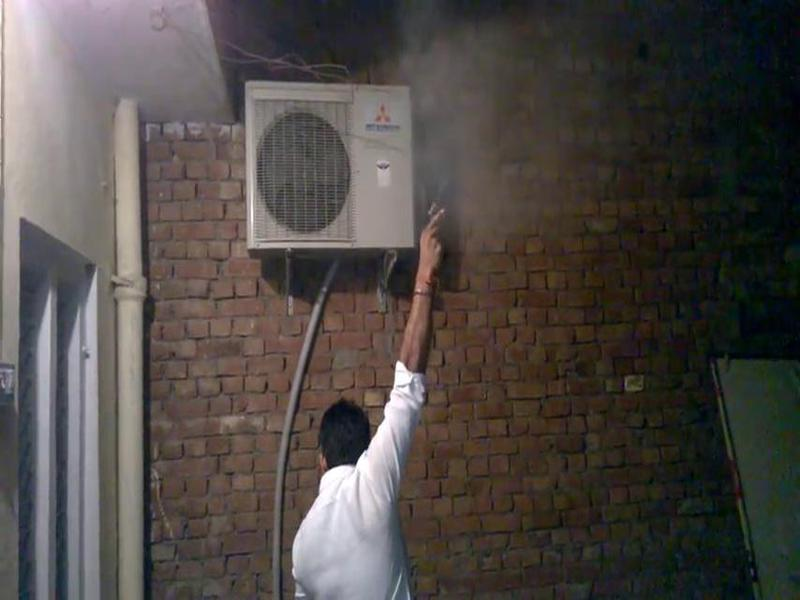Revolver: (406, 173, 471, 266)
